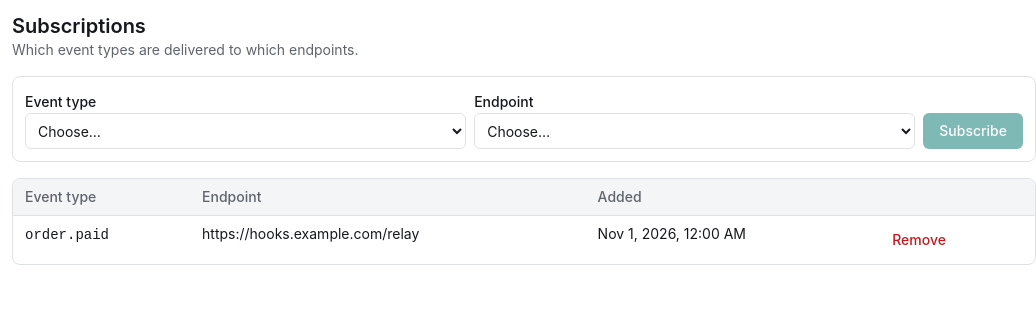
Test: subscriptions › subscribes an endpoint to an event type and shows a duplicate as a problem
Select "order.refunded" in the dropdown labelled "Event type" at (246, 131), box [25,113,466,149]
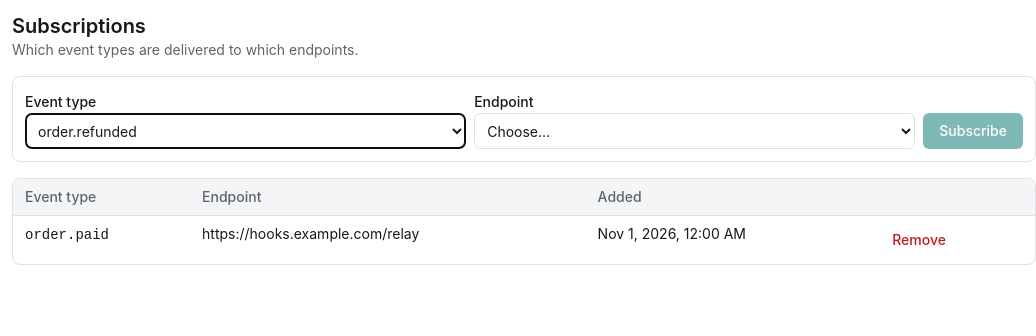
Select "https://hooks.example.com/relay" in the dropdown labelled "Endpoint" at (695, 131), box [474,113,915,149]
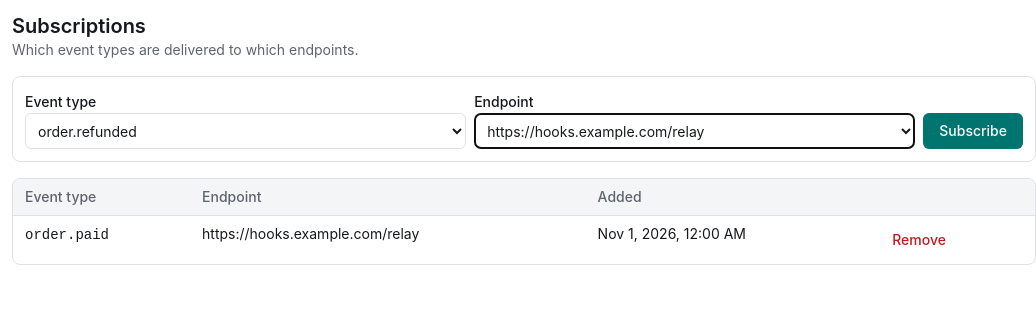
Click the button "Subscribe".
click(973, 131)  # box [923,113,1023,149]
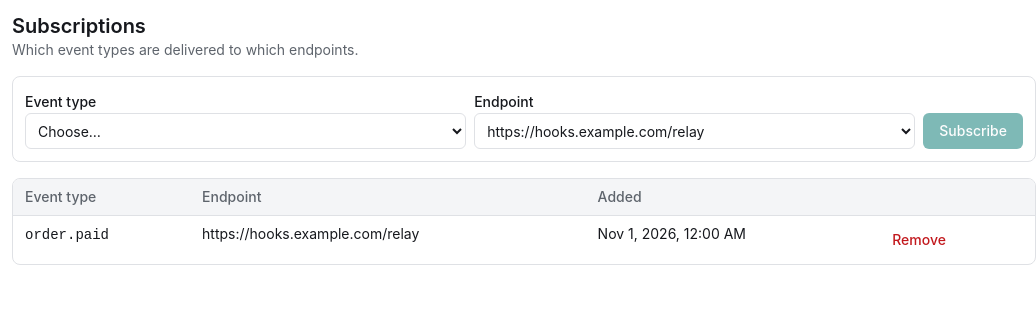
Select "order.paid" in the dropdown labelled "Event type" at (246, 131), box [25,113,466,149]
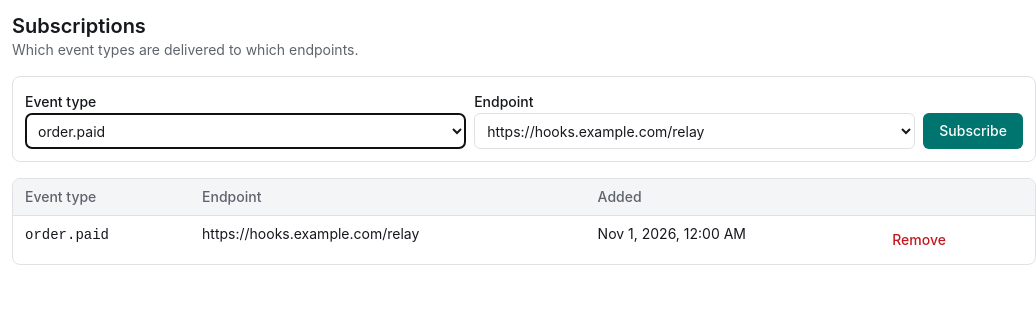
Click the button "Subscribe".
click(973, 131)  # box [923,113,1023,149]
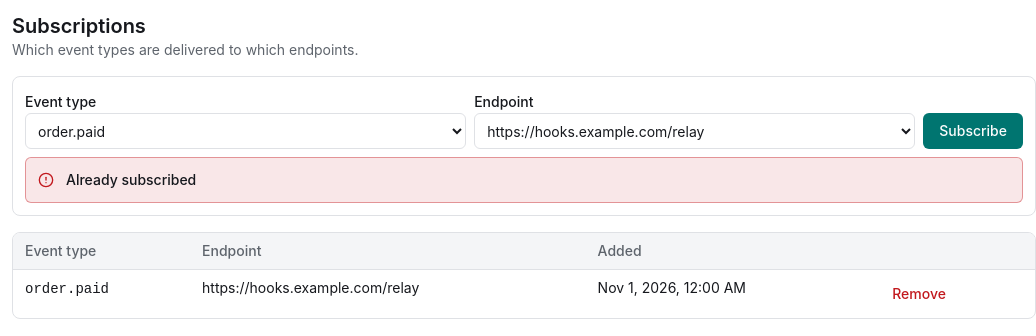
Now the message reads "Already subscribed", box [66,171,196,188]
